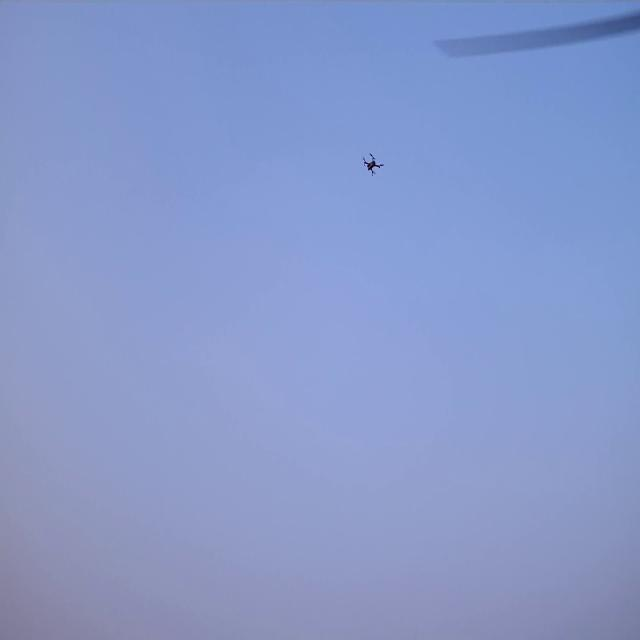UAV: (361, 151, 384, 179)
